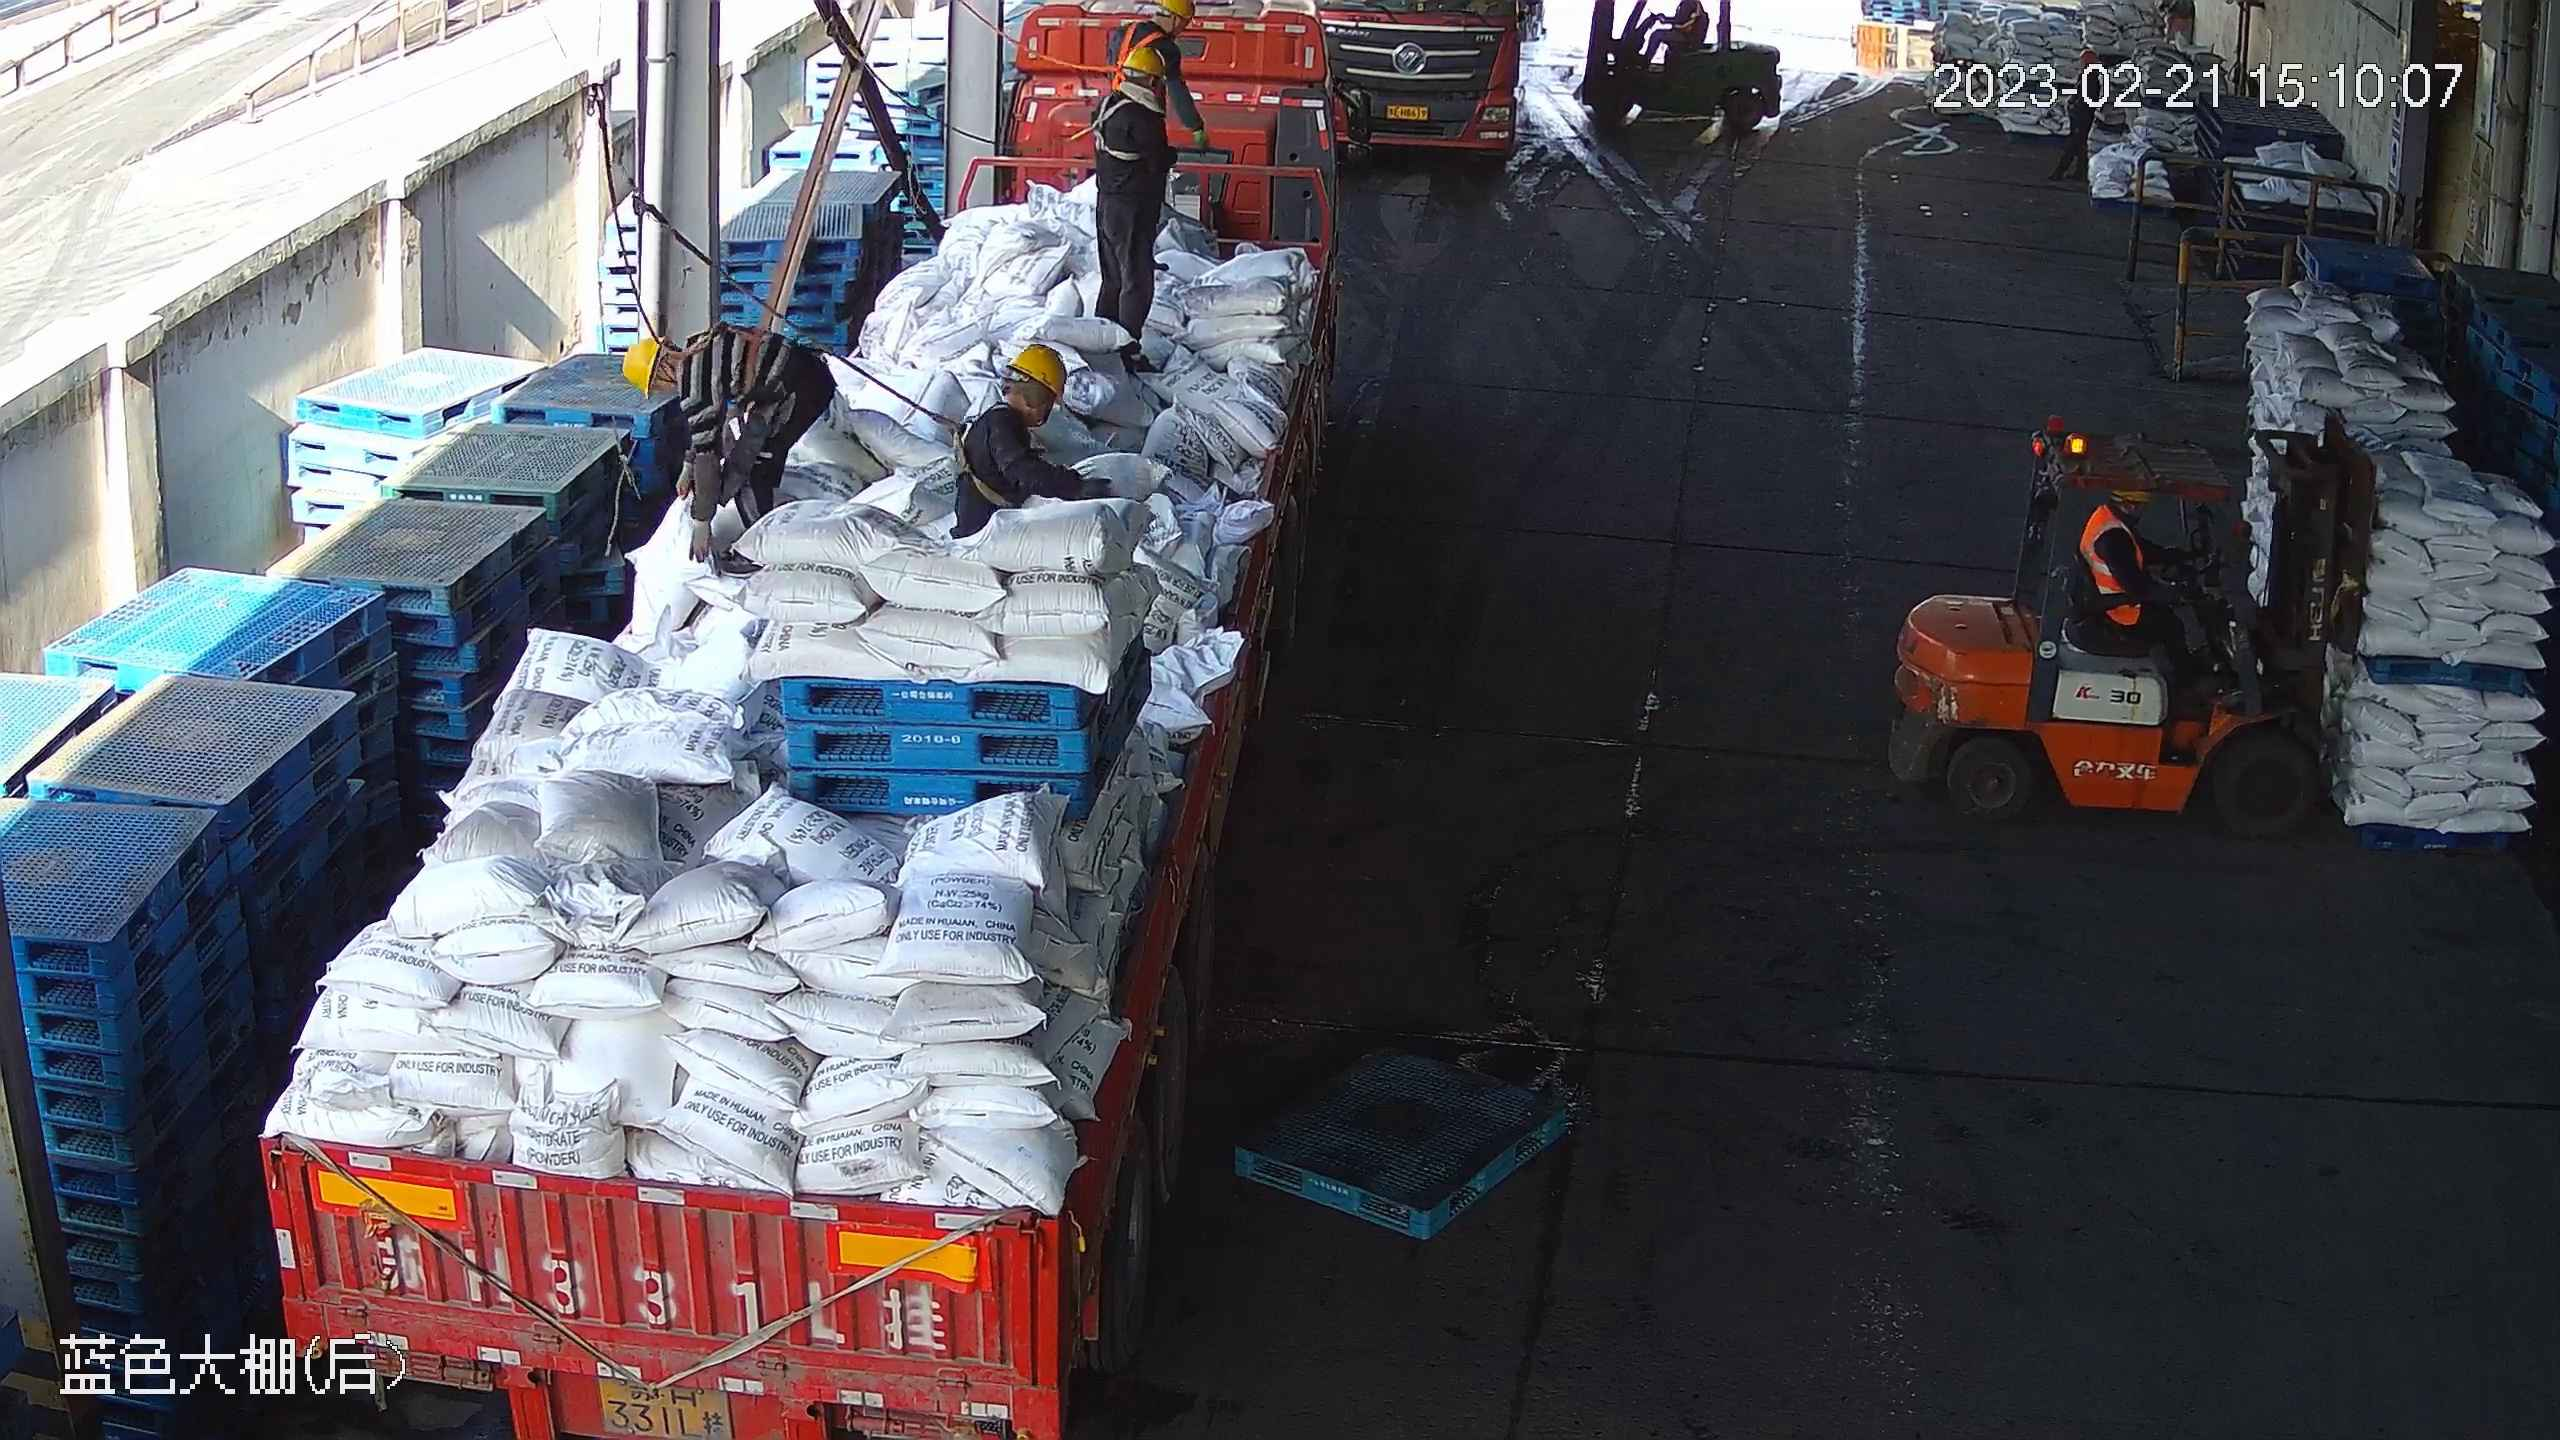belt: (940, 403, 1012, 506), (705, 325, 771, 396), (1078, 93, 1132, 167), (1090, 23, 1161, 78)
head: (967, 342, 1081, 478), (625, 339, 752, 447), (1093, 47, 1167, 150), (1117, 3, 1198, 64)
helmet: (1006, 345, 1069, 396), (622, 330, 662, 396), (1122, 45, 1161, 78), (1162, 1, 1196, 23)
people: (623, 330, 839, 569), (2088, 483, 2205, 705), (1091, 54, 1164, 381), (1621, 1, 1721, 80)
truck: (252, 15, 1347, 1433), (1329, 1, 1545, 166)
